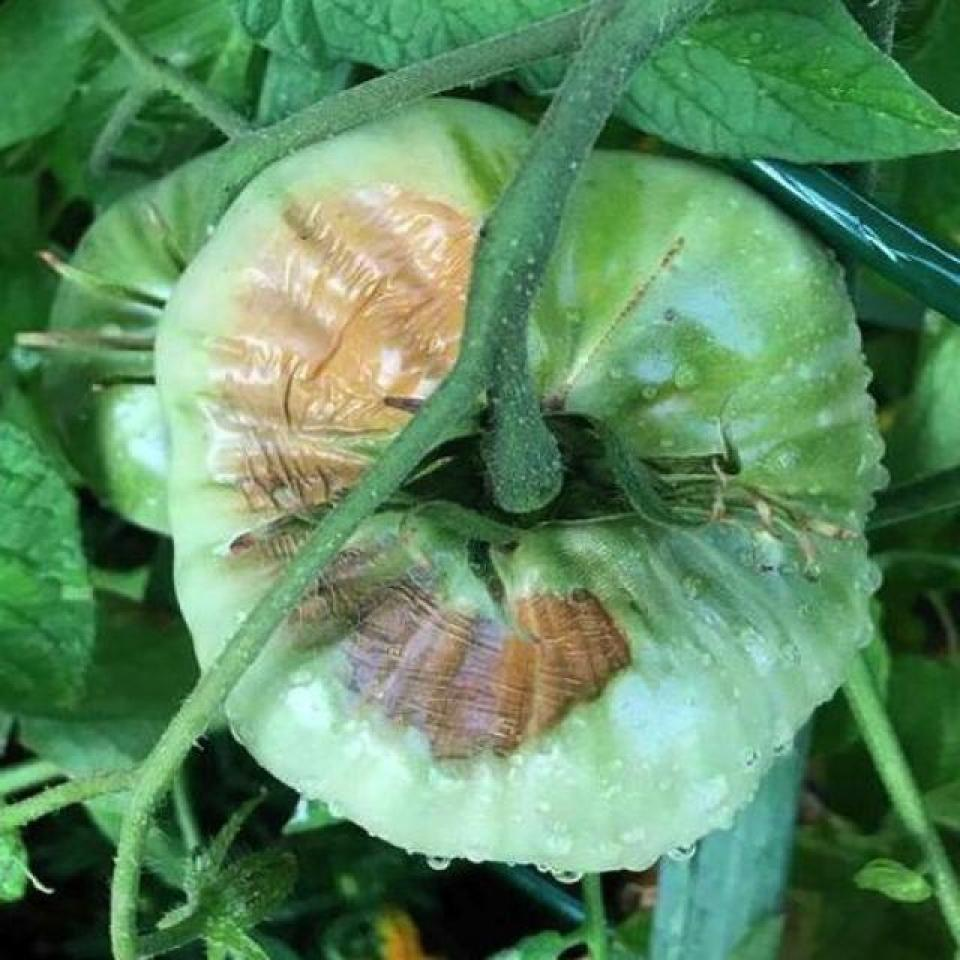Sunscald: (195, 177, 627, 769)
